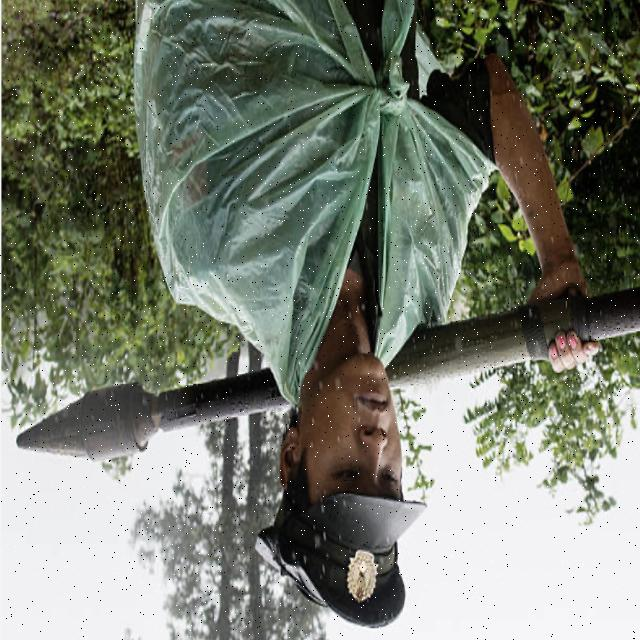bazooka: (9, 270, 636, 479)
